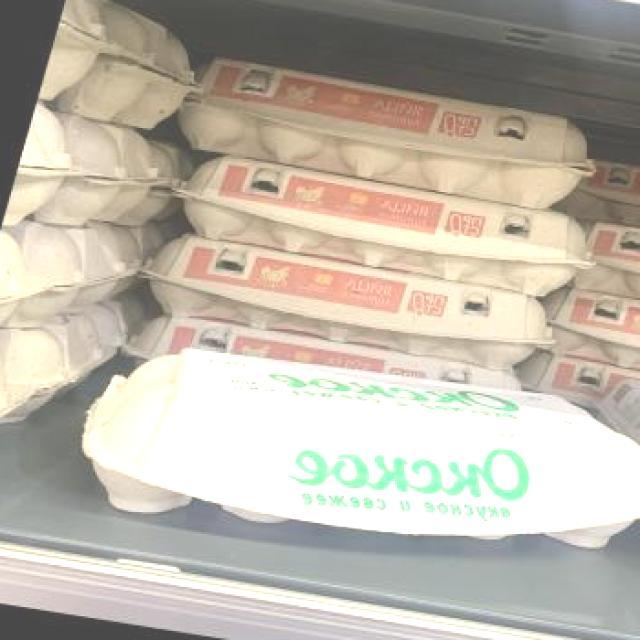Eggs: (48, 320, 640, 596), (169, 49, 612, 212), (166, 149, 607, 303), (136, 232, 574, 379), (530, 282, 640, 382), (563, 154, 640, 250), (580, 221, 640, 316)
